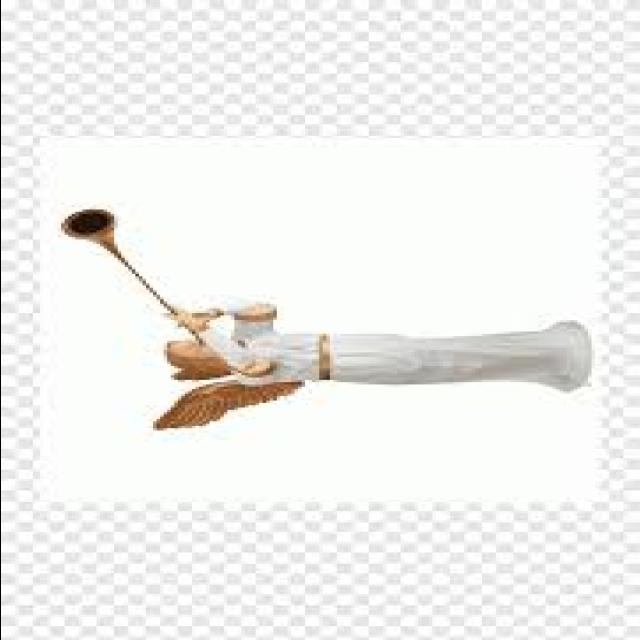angel: (52, 201, 593, 439)
